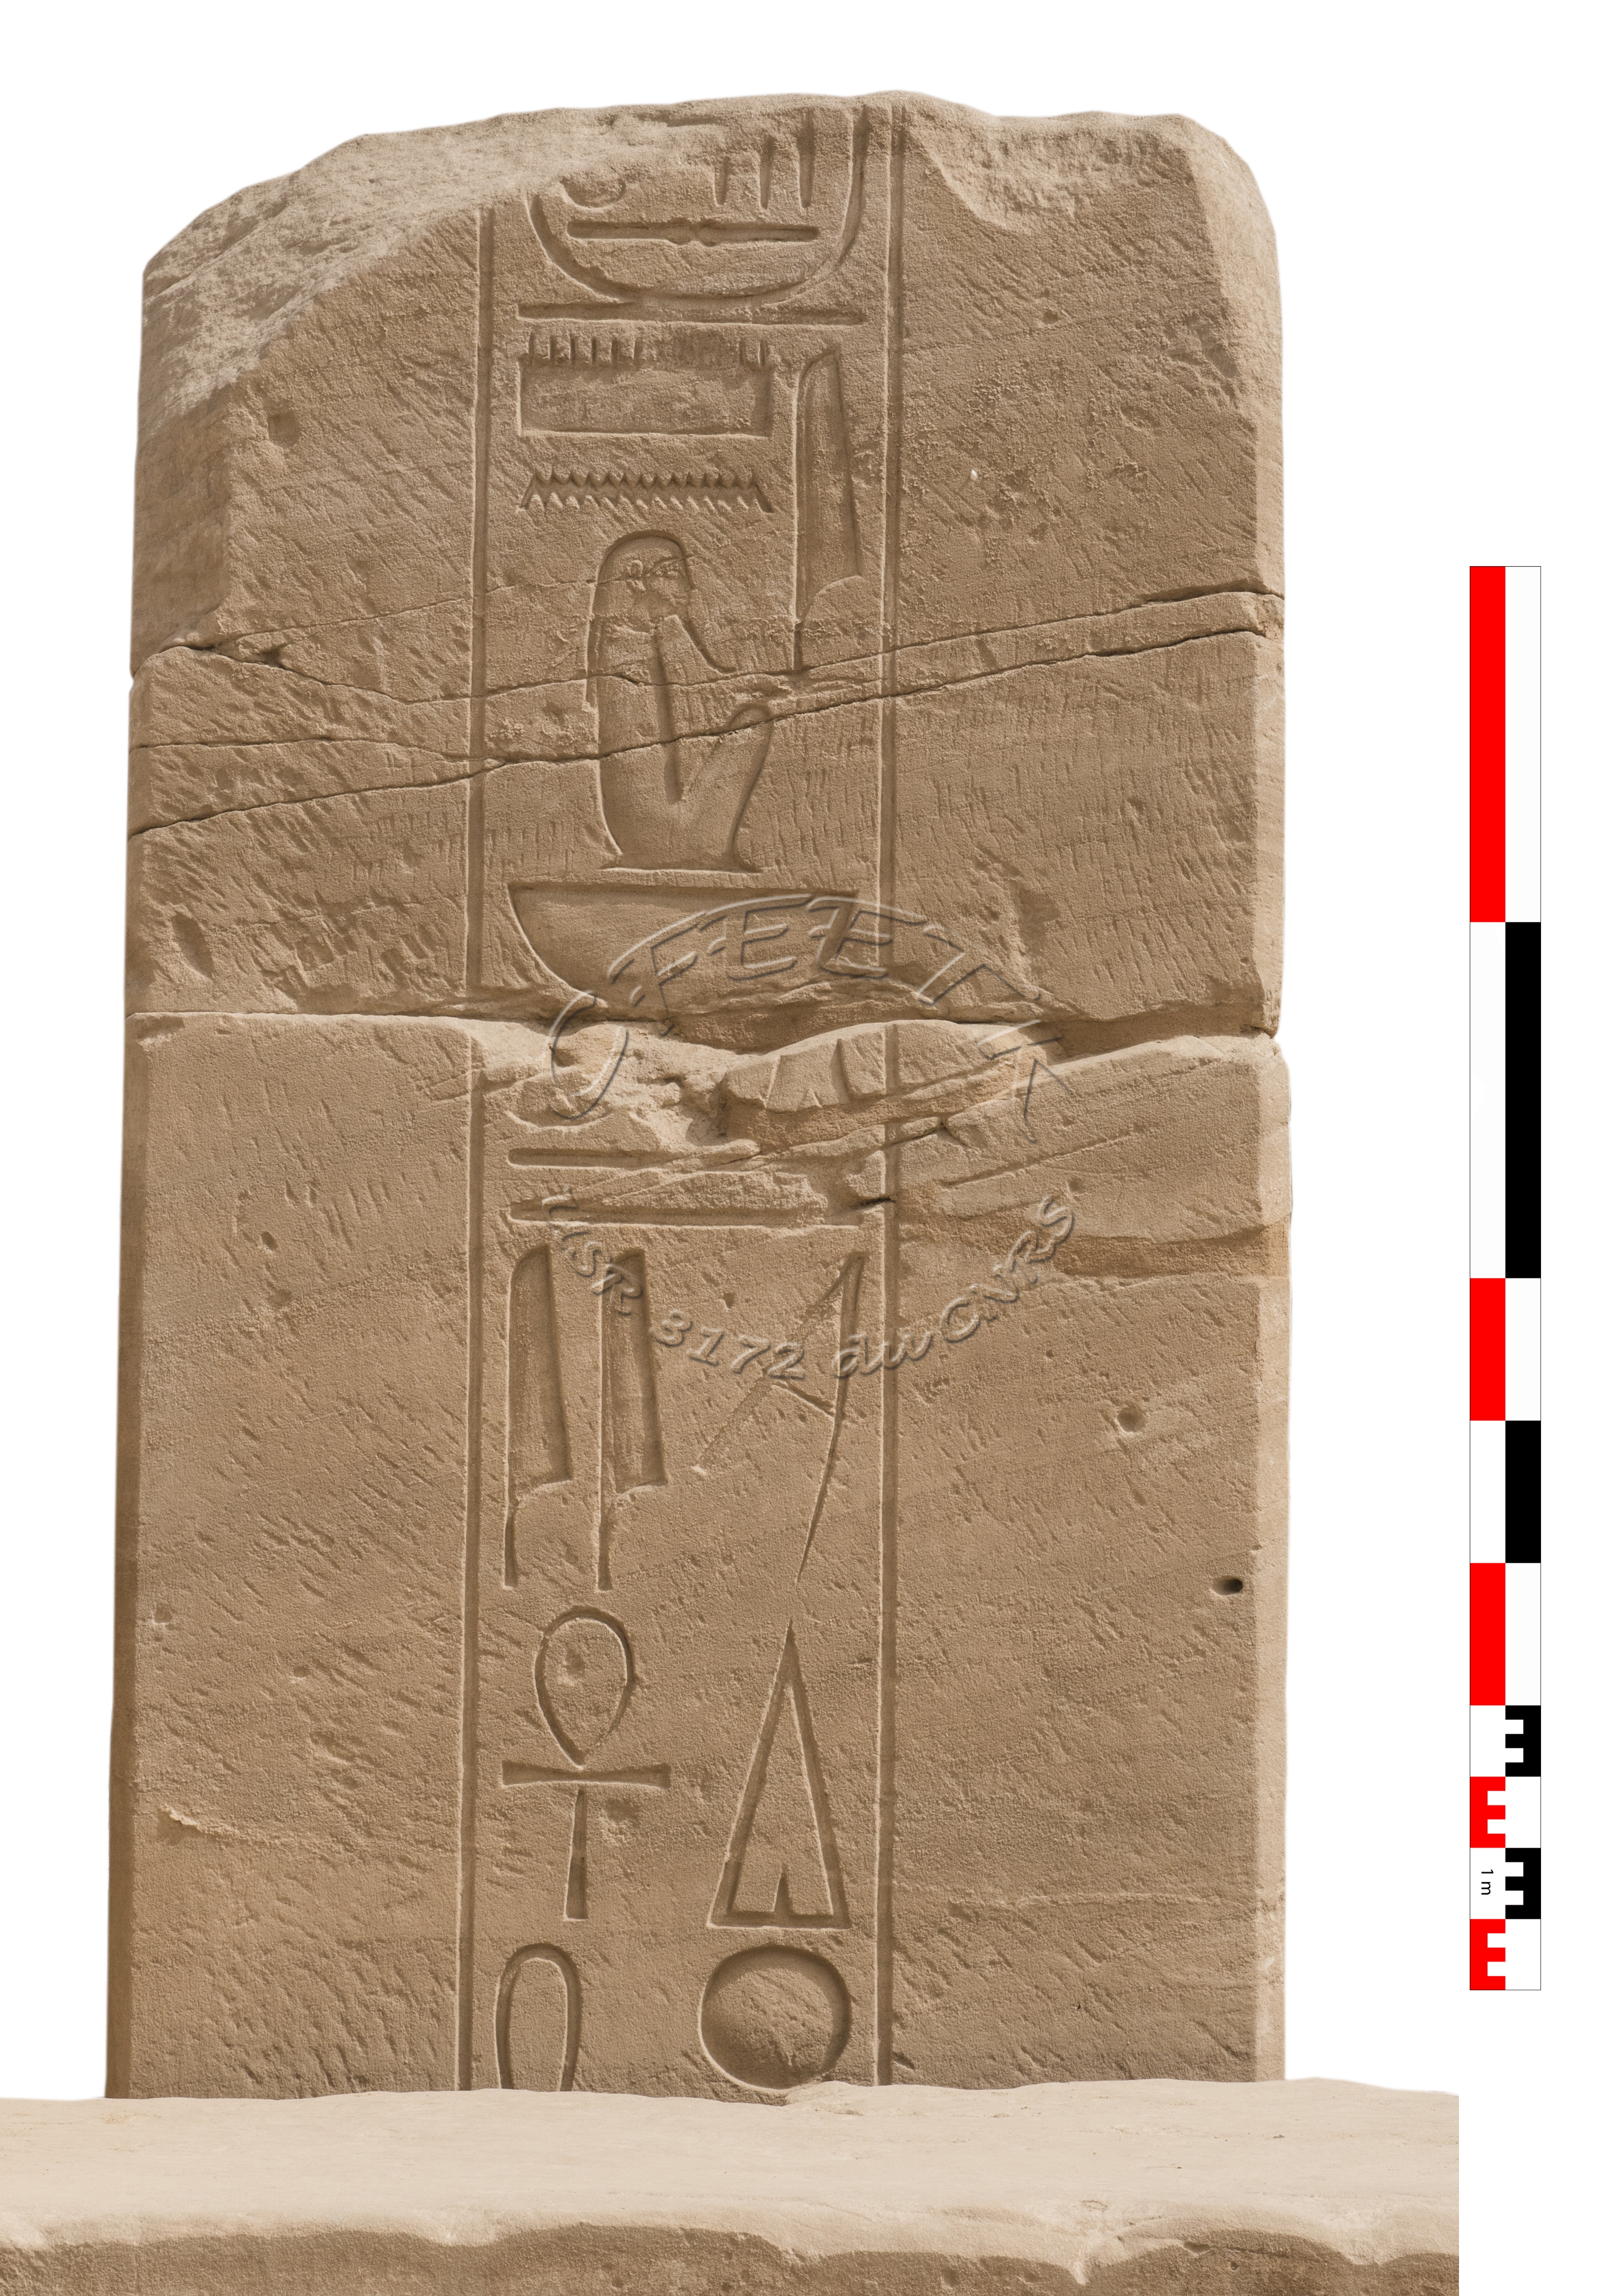M17: (461, 1242, 576, 1596), (569, 1227, 674, 1596), (779, 338, 883, 672)
N35: (494, 450, 800, 541)
V30: (490, 842, 874, 1038)
X8: (697, 1622, 877, 1941)
